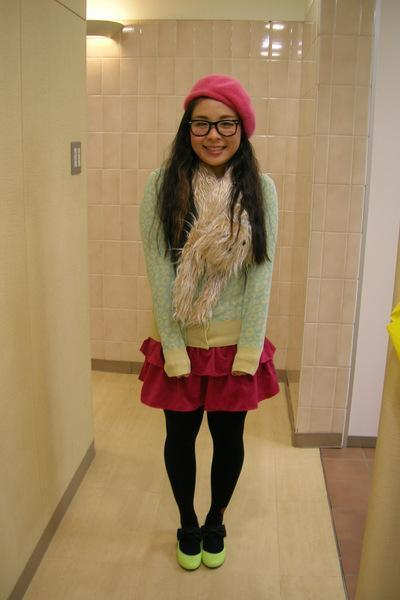hat: (192, 75, 253, 138)
jacket: (132, 189, 270, 376)
shoe: (172, 550, 231, 577)
skirt: (139, 337, 278, 411)
